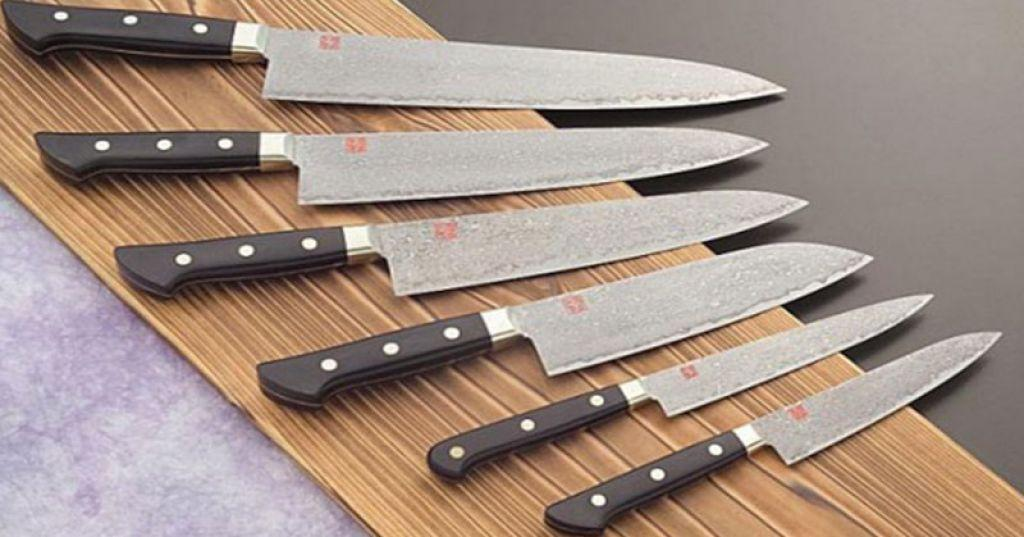faca: (258, 243, 870, 407), (427, 296, 927, 478), (545, 333, 999, 533), (114, 191, 807, 296), (35, 128, 767, 204)
